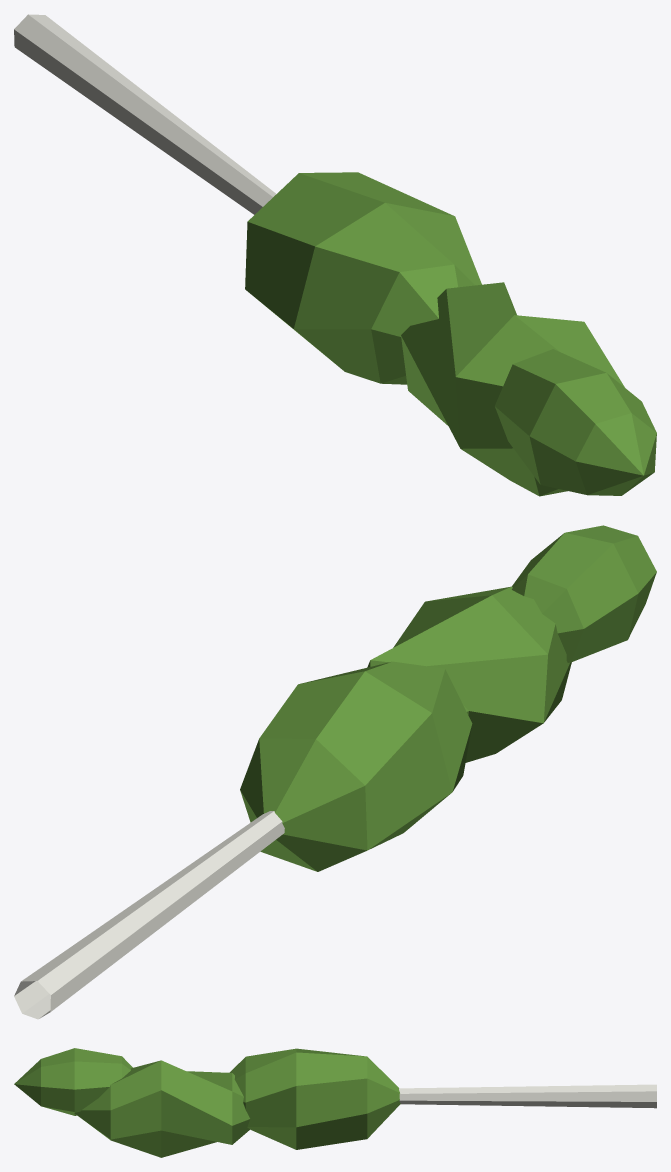
File: growth_2.glb
The picture shows the model from 3 angles, top to bottom: view 1: azimuth 30°, elevation 25°; view 2: azimuth 150°, elevation 25°; view 3: azimuth 270°, elevation 25°; orthographic projection. The views are drawn at different scales.
Parts seen in each view (by area): view 1: tree_03_growth_2; view 2: tree_03_growth_2; view 3: tree_03_growth_2.
Part boxes in pixels (bbox=[...]): tree_03_growth_2: bbox=[14, 14, 656, 496]; tree_03_growth_2: bbox=[14, 525, 656, 1019]; tree_03_growth_2: bbox=[14, 1048, 656, 1157].
Size of the model in its own units: 5.99 by 5.78 by 36.12.
